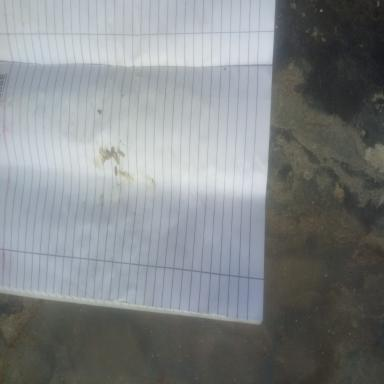pbw: (99, 148, 107, 157), (114, 151, 119, 165), (117, 150, 125, 158), (100, 157, 106, 166), (114, 166, 118, 177), (106, 154, 112, 160)
